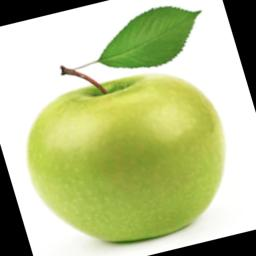Apple Fresh: (8, 8, 256, 225)
